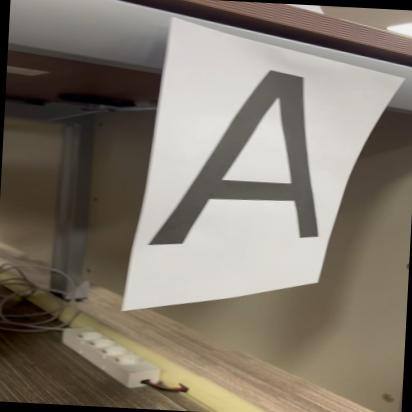seat: (152, 55, 337, 261)
